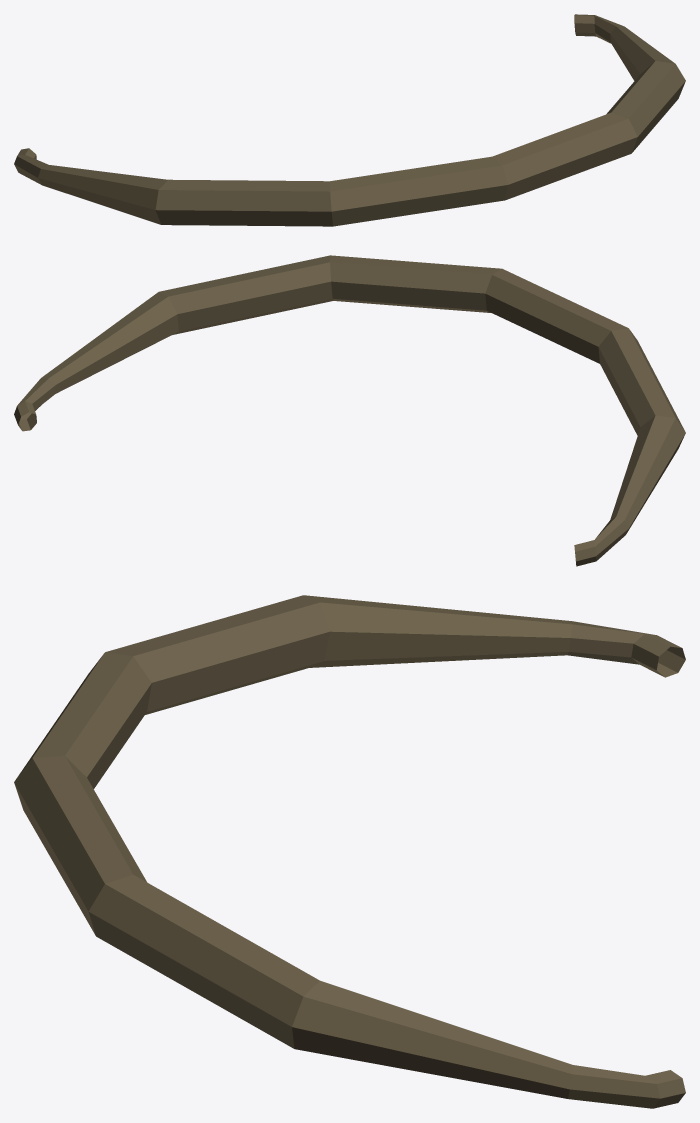
File: m_coloniusLory_TeaPot_handle.fbx
The picture shows the model from 3 angles, top to bottom: view 1: azimuth 30°, elevation 25°; view 2: azimuth 150°, elevation 25°; view 3: azimuth 270°, elevation 25°; orthographic projection. The views are drawn at different scales.
Visible parts, largest first — view 1: m_coloniusLory_TeaPot_handle; view 2: m_coloniusLory_TeaPot_handle; view 3: m_coloniusLory_TeaPot_handle.
Part boxes in pixels (bbox=[...]): m_coloniusLory_TeaPot_handle: bbox=[14, 14, 685, 226]; m_coloniusLory_TeaPot_handle: bbox=[14, 255, 685, 566]; m_coloniusLory_TeaPot_handle: bbox=[14, 595, 685, 1108].
Size of the model in its own units: 16.51 by 2.24 by 10.22.
